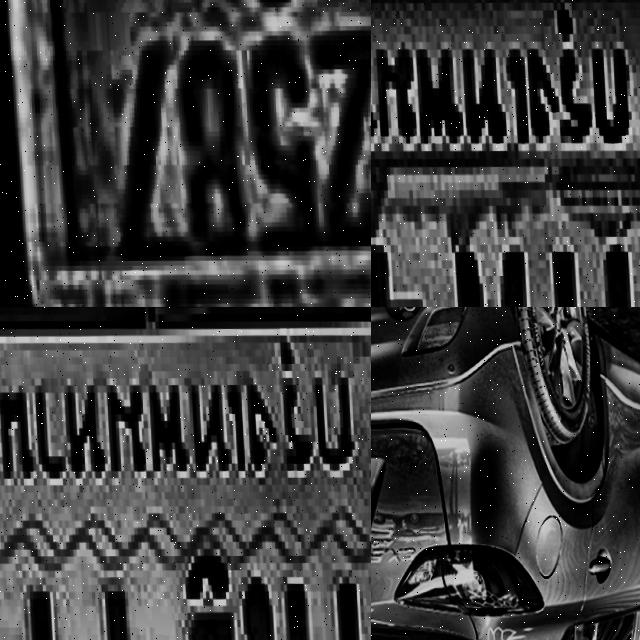license-plate: (0, 307, 371, 640), (0, 0, 371, 307), (371, 0, 640, 307)
